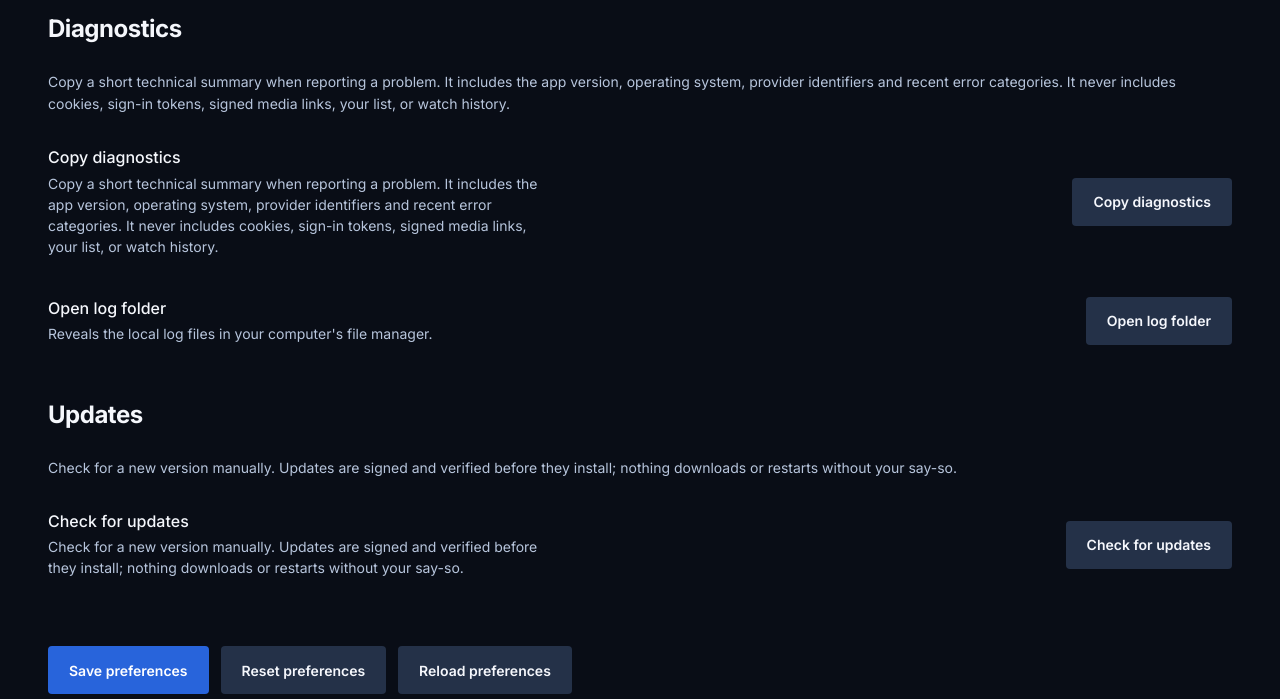
Test: Preferences diagnostics › reports an unsupported log-folder action honestly
(page scrolled)
Click the button "Open log folder": (1159, 321) [1086,297,1232,345]
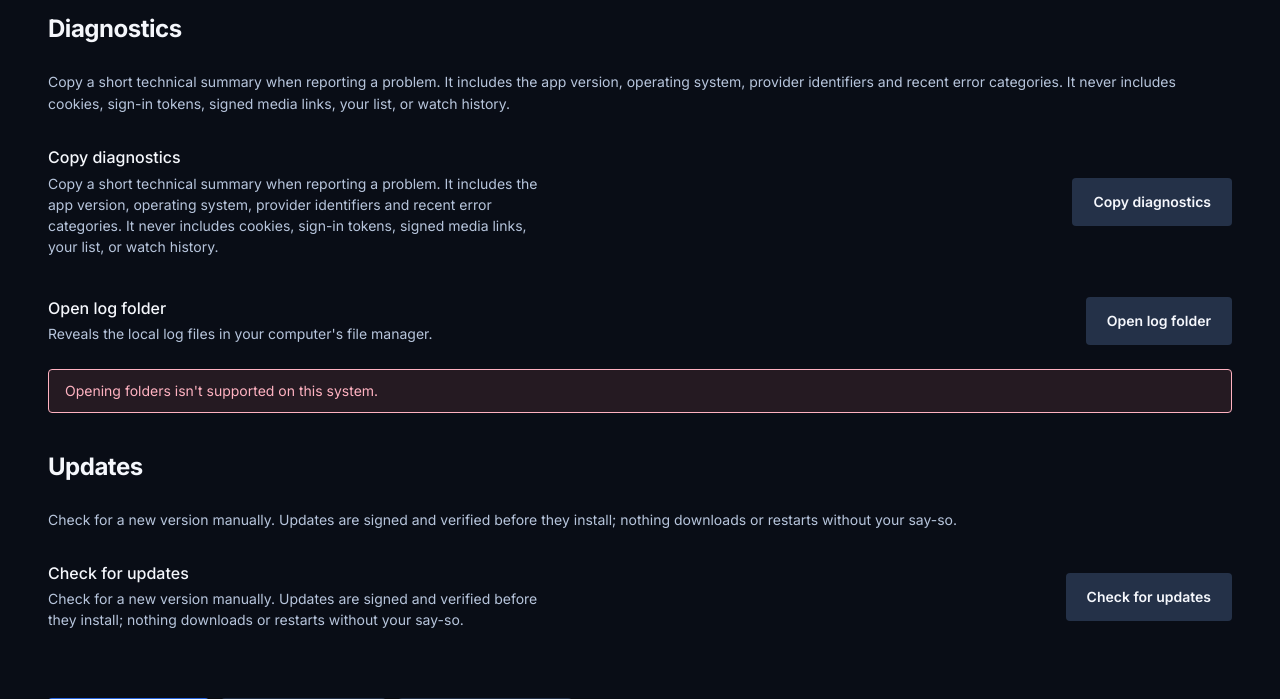
Expected: the text "Opening folders isn't supported on this system." is shown, [65,382,378,399]
